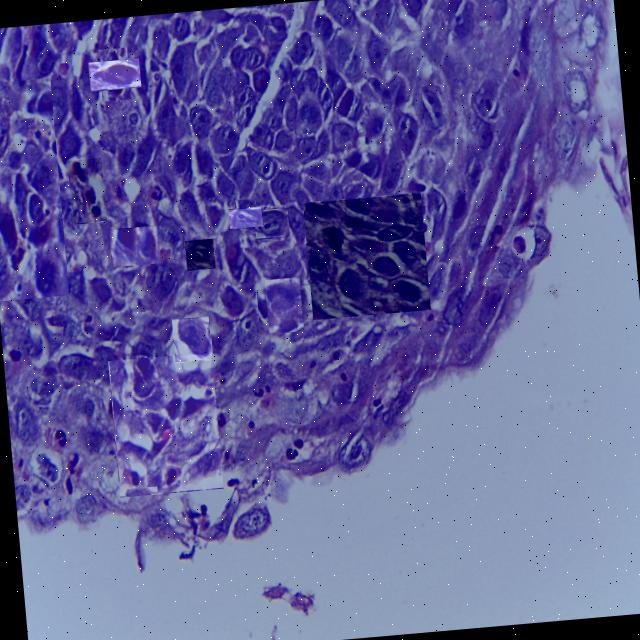Multiple Nucleol: (421, 85, 448, 128), (253, 207, 287, 237), (186, 238, 213, 267), (228, 207, 261, 226)
Nuclear Hyperchromatism: (0, 79, 65, 294), (115, 356, 214, 495), (302, 202, 428, 310), (67, 159, 105, 221), (265, 277, 300, 330), (109, 225, 158, 262), (172, 318, 210, 358), (88, 58, 138, 88)
